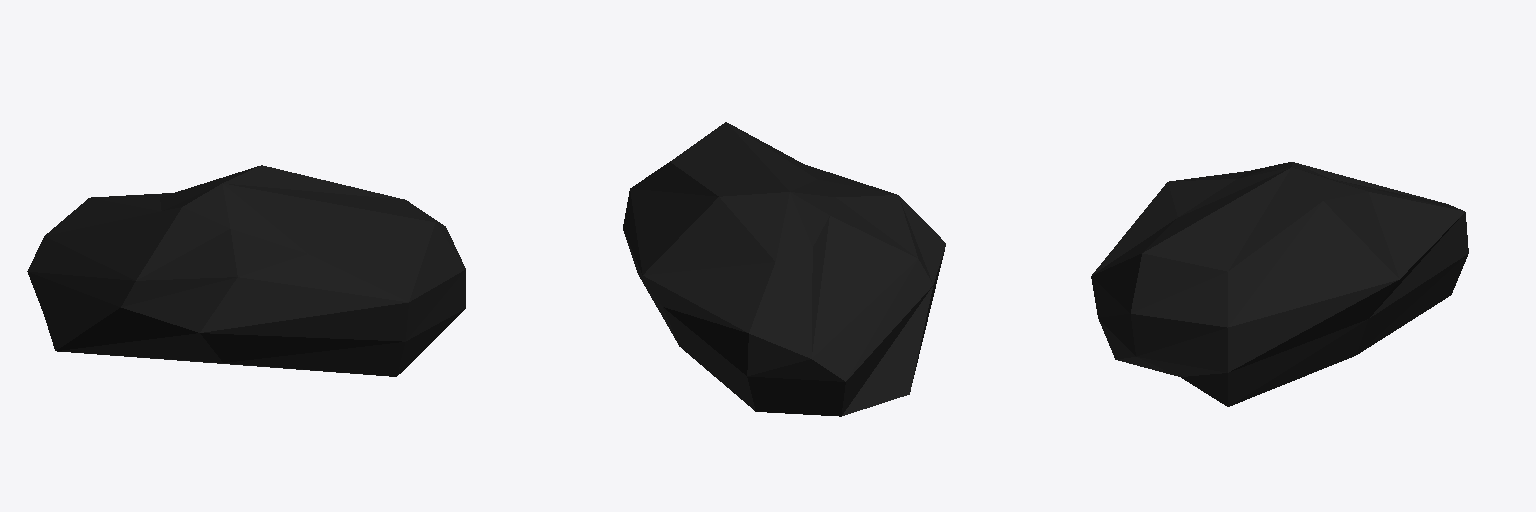
Rendered from Single_Stone_C.obj.
3 views of the same model, side by side, from view 1: azimuth 30°, elevation 25°; view 2: azimuth 150°, elevation 25°; view 3: azimuth 270°, elevation 25° (orthographic).
Visible parts, largest first — view 1: Single_Stone_C; view 2: Single_Stone_C; view 3: Single_Stone_C.
Part boxes in pixels (bbox=[...]): Single_Stone_C: bbox=[27, 165, 465, 376]; Single_Stone_C: bbox=[623, 122, 945, 416]; Single_Stone_C: bbox=[1091, 162, 1468, 406].
Bounding box in the file's own units: 3.87 × 1.62 × 3.69.